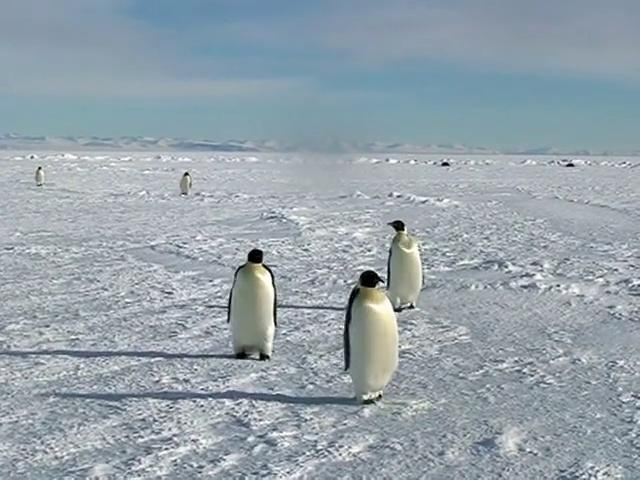animal: (389, 221, 425, 312)
